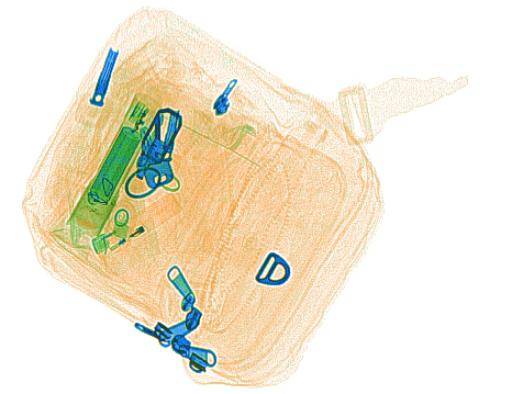battery: (87, 122, 140, 209)
lighter: (92, 191, 181, 257)
